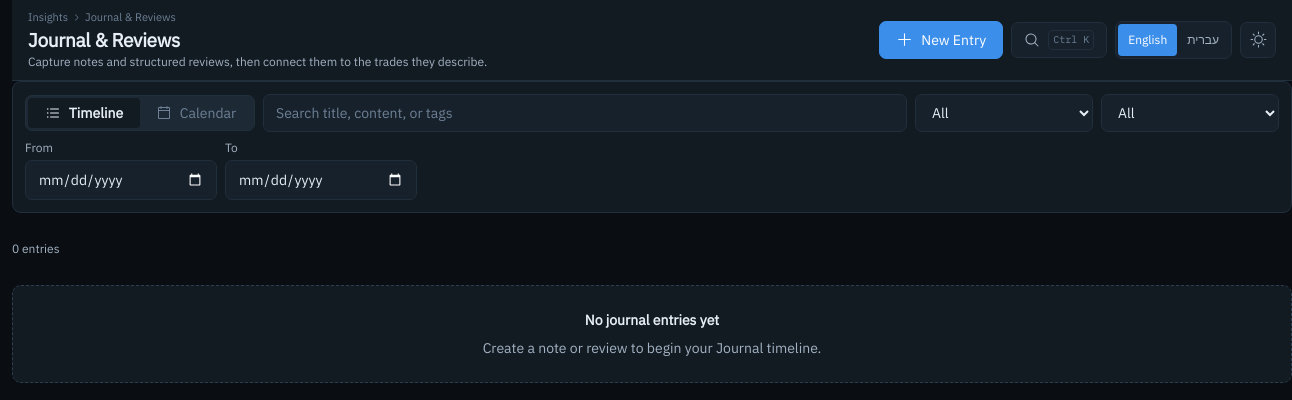
Test: Journal timeline and filters › shows truthful no-entry and filtered-empty states and clears filters
Expected: the heading "No journal entries yet" is shown, [585,311,719,329]
Expected: the number of buttons "New Entry" is 1, [879,21,1003,59]
Type "missing" into the search field named "Search journal entries" at (585, 113), box [263,94,907,132]
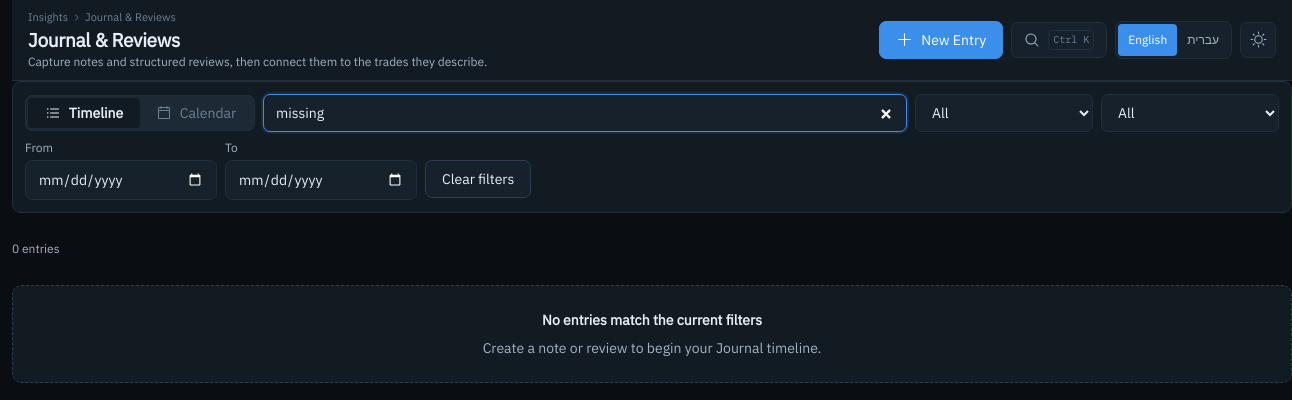
Expected: the heading "No entries match the current filters" is shown, [542,311,762,329]
Click the button "Clear filters" at (478, 179), box [425,160,531,198]
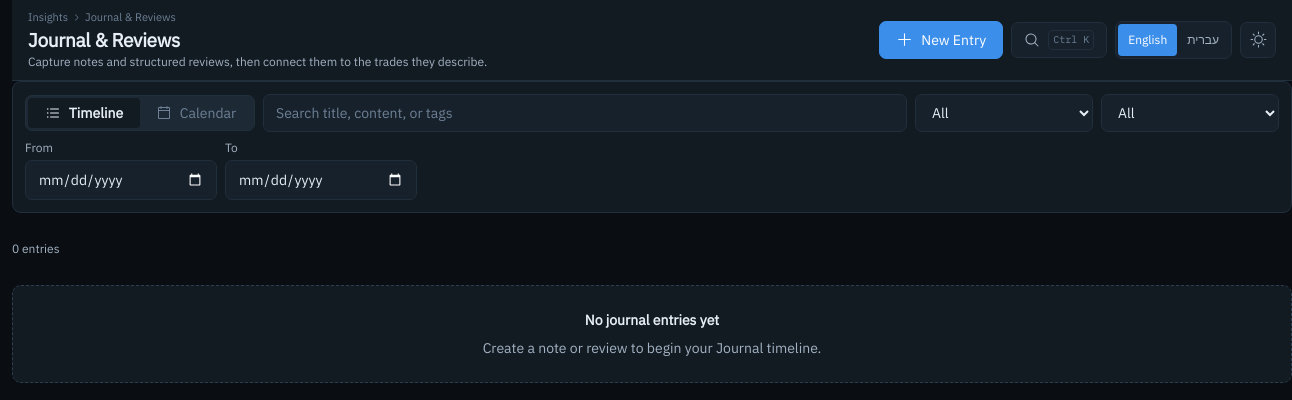
Expected: the search field named "Search journal entries" is empty, [263,94,907,132]
